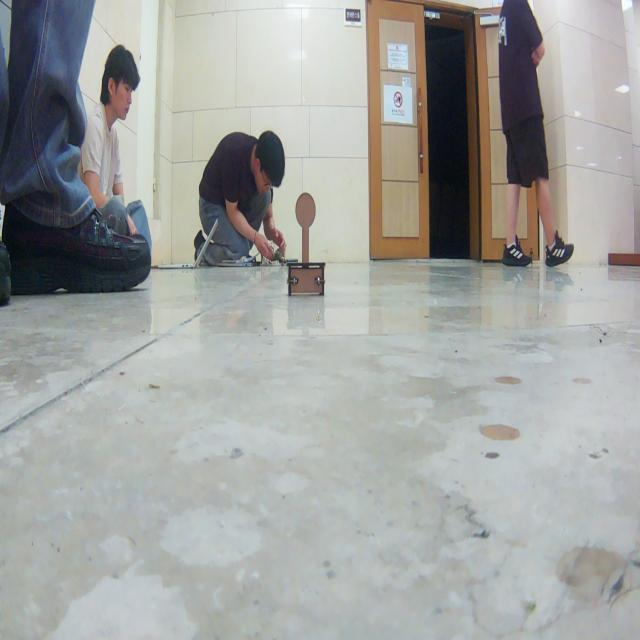target: (287, 192, 325, 296)
